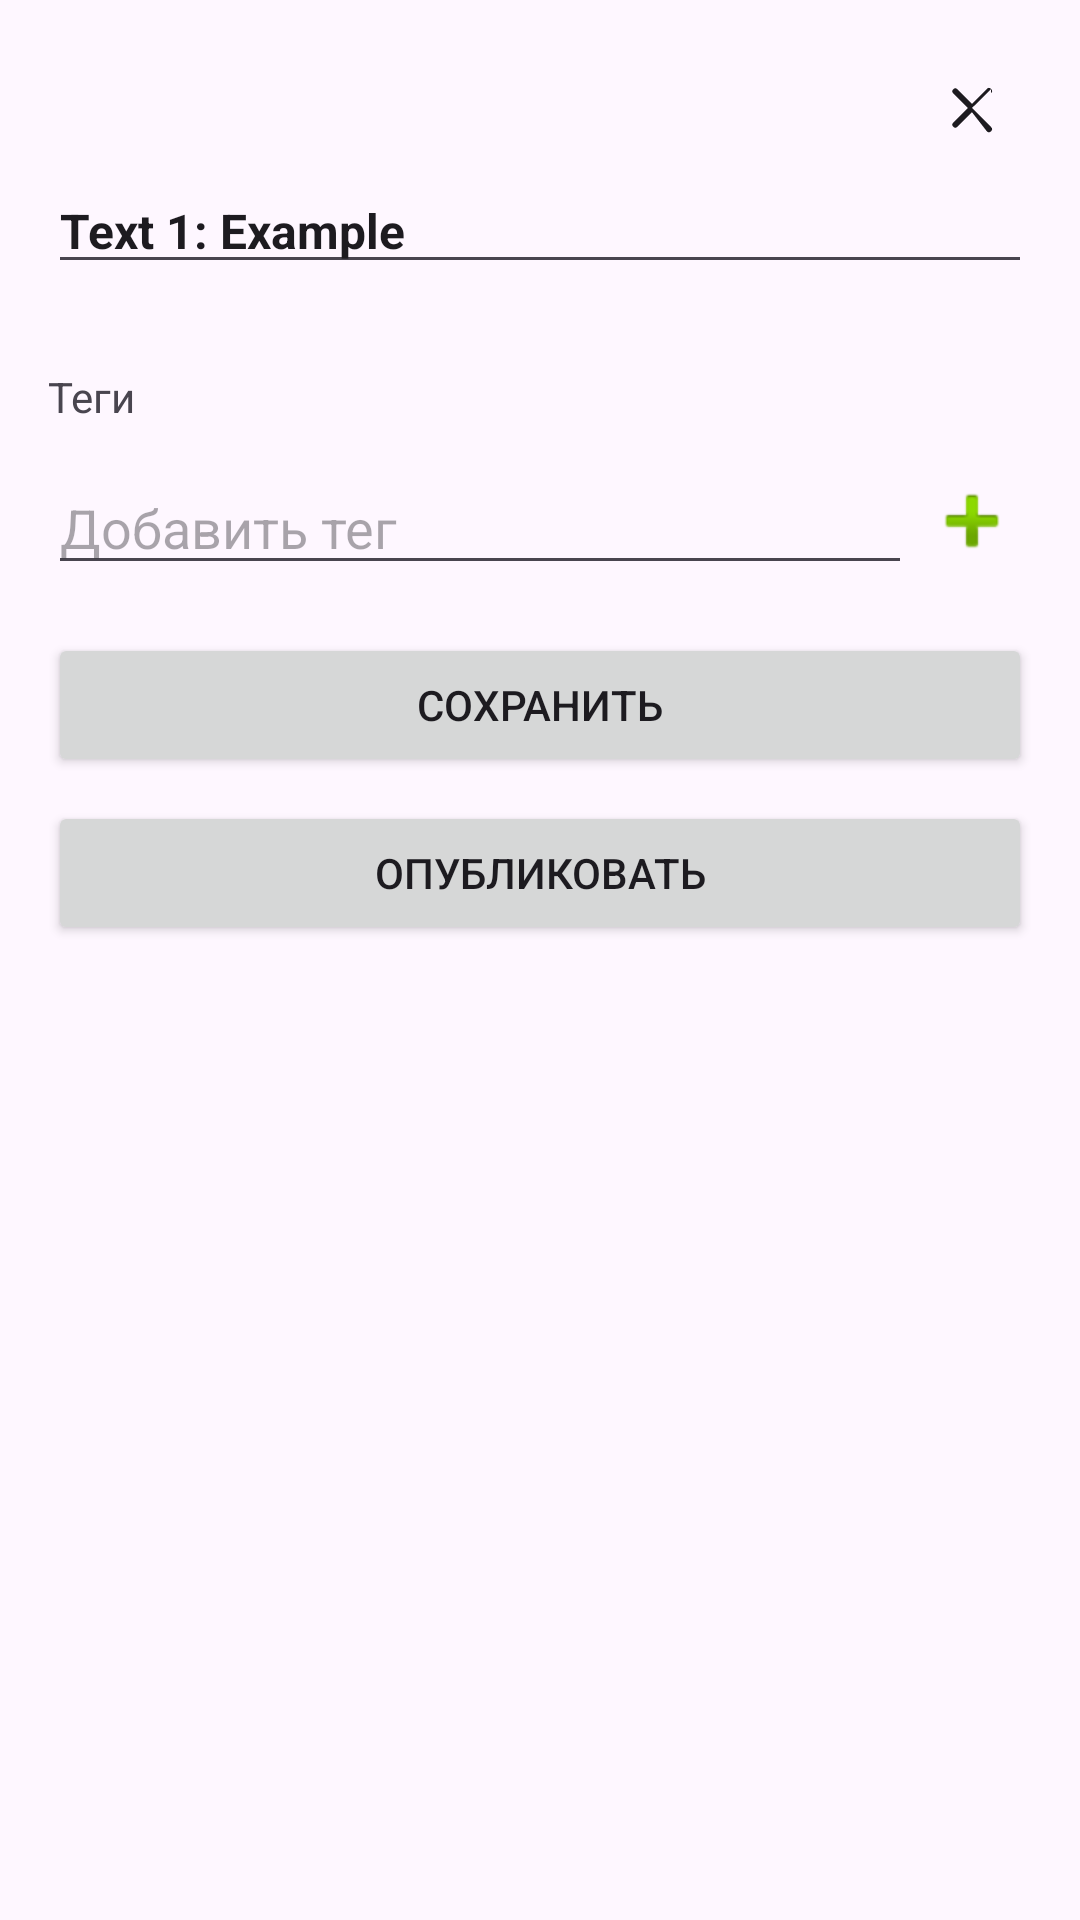

Icons on this 1080×1920 Android screen, each with its box as box(x1, y1, x2, y2):
Закрыть: box(952, 88, 992, 133)
